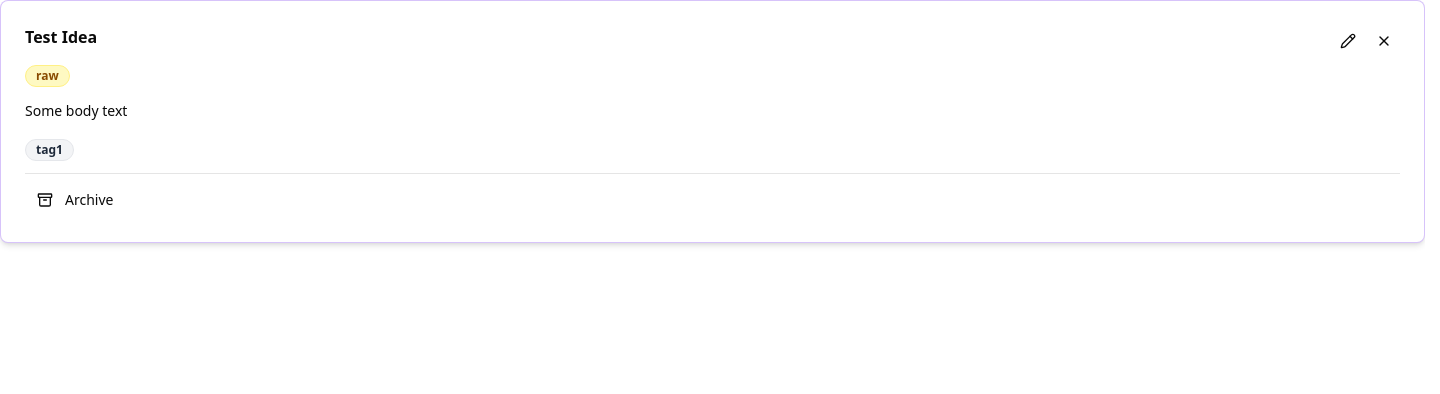
Test: IdeaCard › Save behavior (active) › Save button is disabled when not dirty, enabled after edit
Click the button named "Edit idea" at (1348, 41), box [1332,25,1364,57]
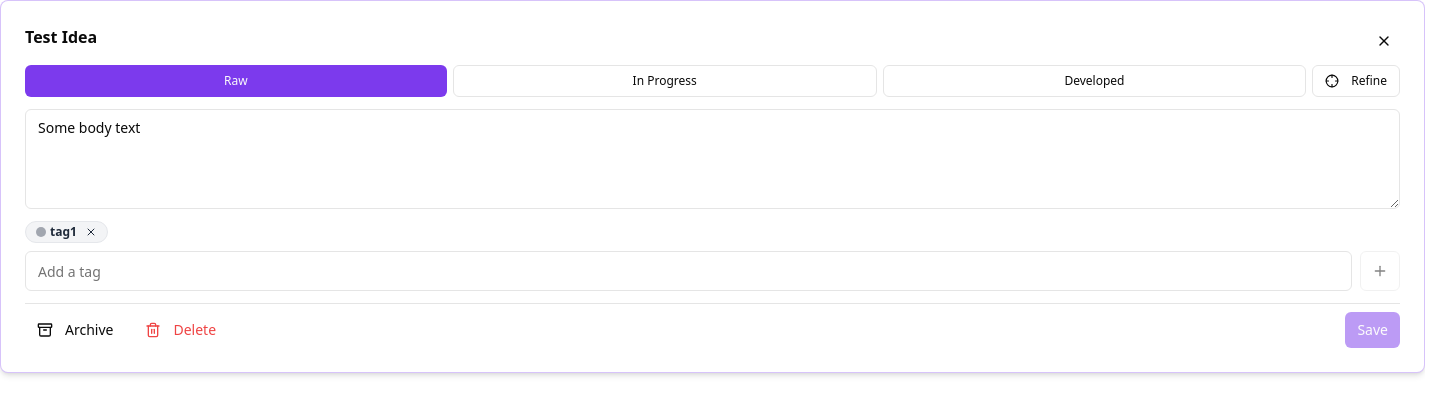
Check: the button "Save" is disabled, box [1345,312,1400,348]
Replace the text in the text box named "Idea body" with "new body" at (712, 159), box [25,109,1400,209]
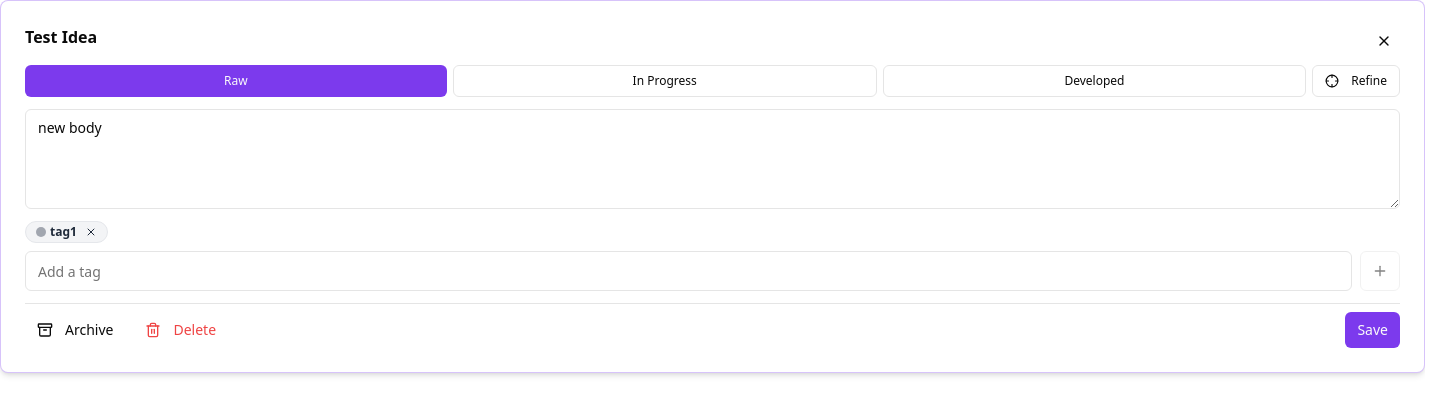
Check: the button "Save" is enabled, box [1345,312,1400,348]
